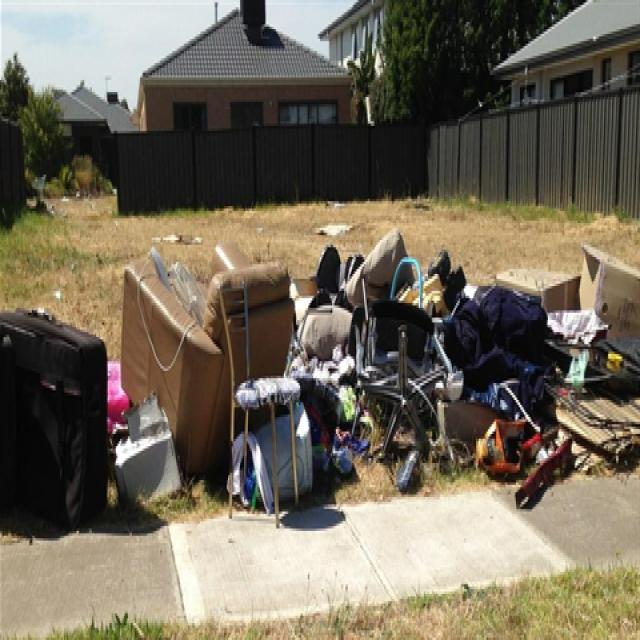dumping: (0, 214, 640, 562)
